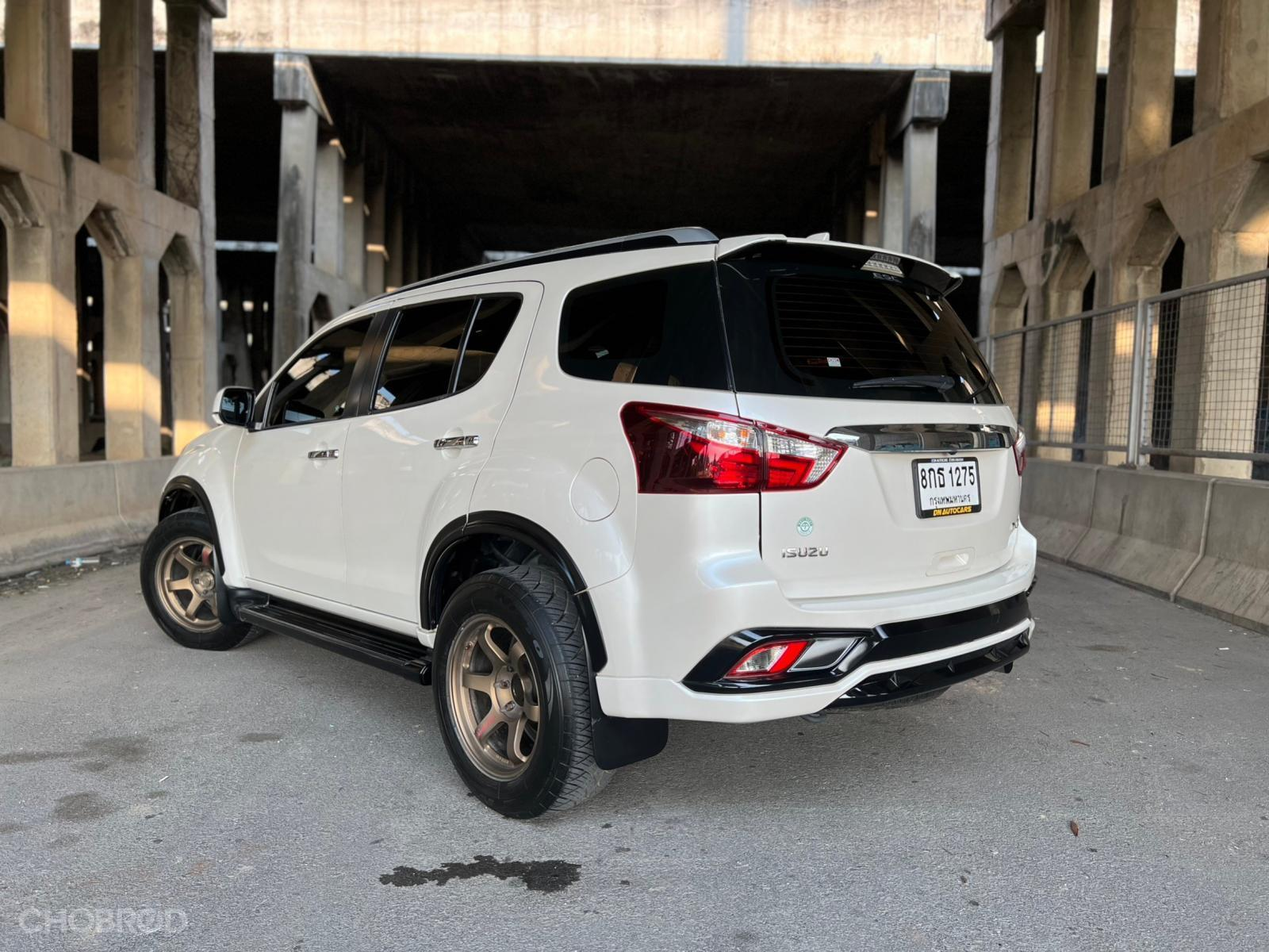license-plate: (901, 450, 993, 528)
